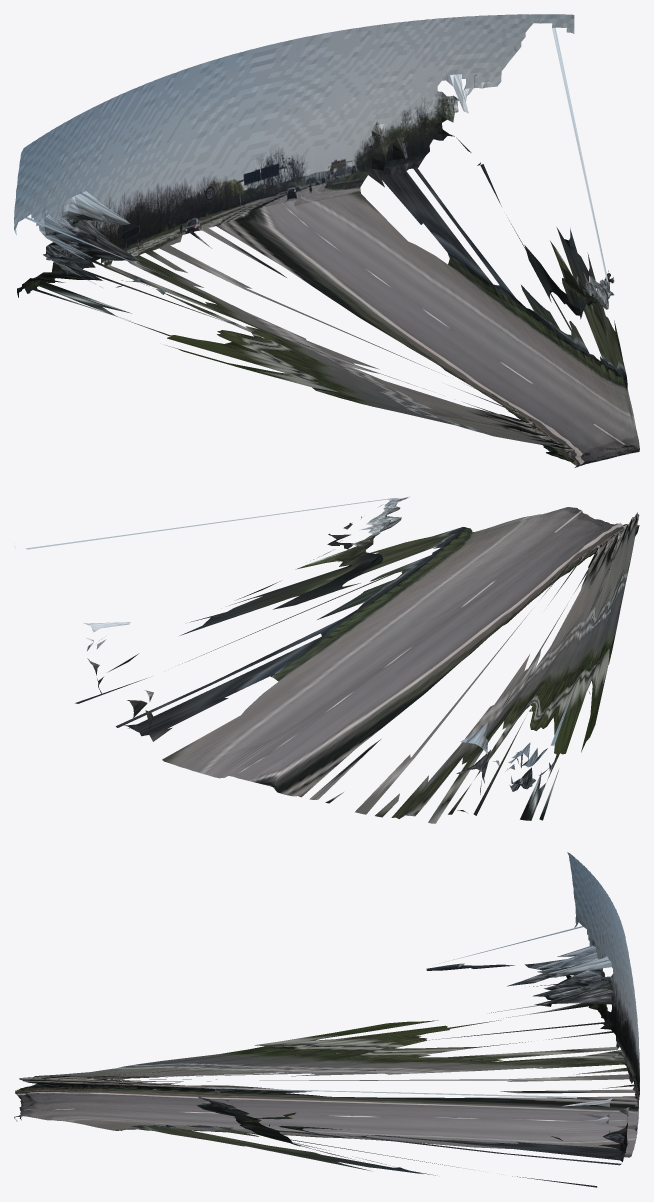
3 renders of one model, top to bottom at view 1: azimuth 30°, elevation 25°; view 2: azimuth 150°, elevation 25°; view 3: azimuth 270°, elevation 25°, orthographic. The views are drawn at different scales.
Visible parts, largest first — view 1: defaultobject; view 2: defaultobject; view 3: defaultobject.
Boxes of the visible parts, x1,y1,x2,y2 form: defaultobject: (14,14,639,467); defaultobject: (14,496,639,823); defaultobject: (14,852,639,1187).
Size of the model in its own units: 40.88 by 12.59 by 44.61.
Materials: 1 (1 with a texture image).
